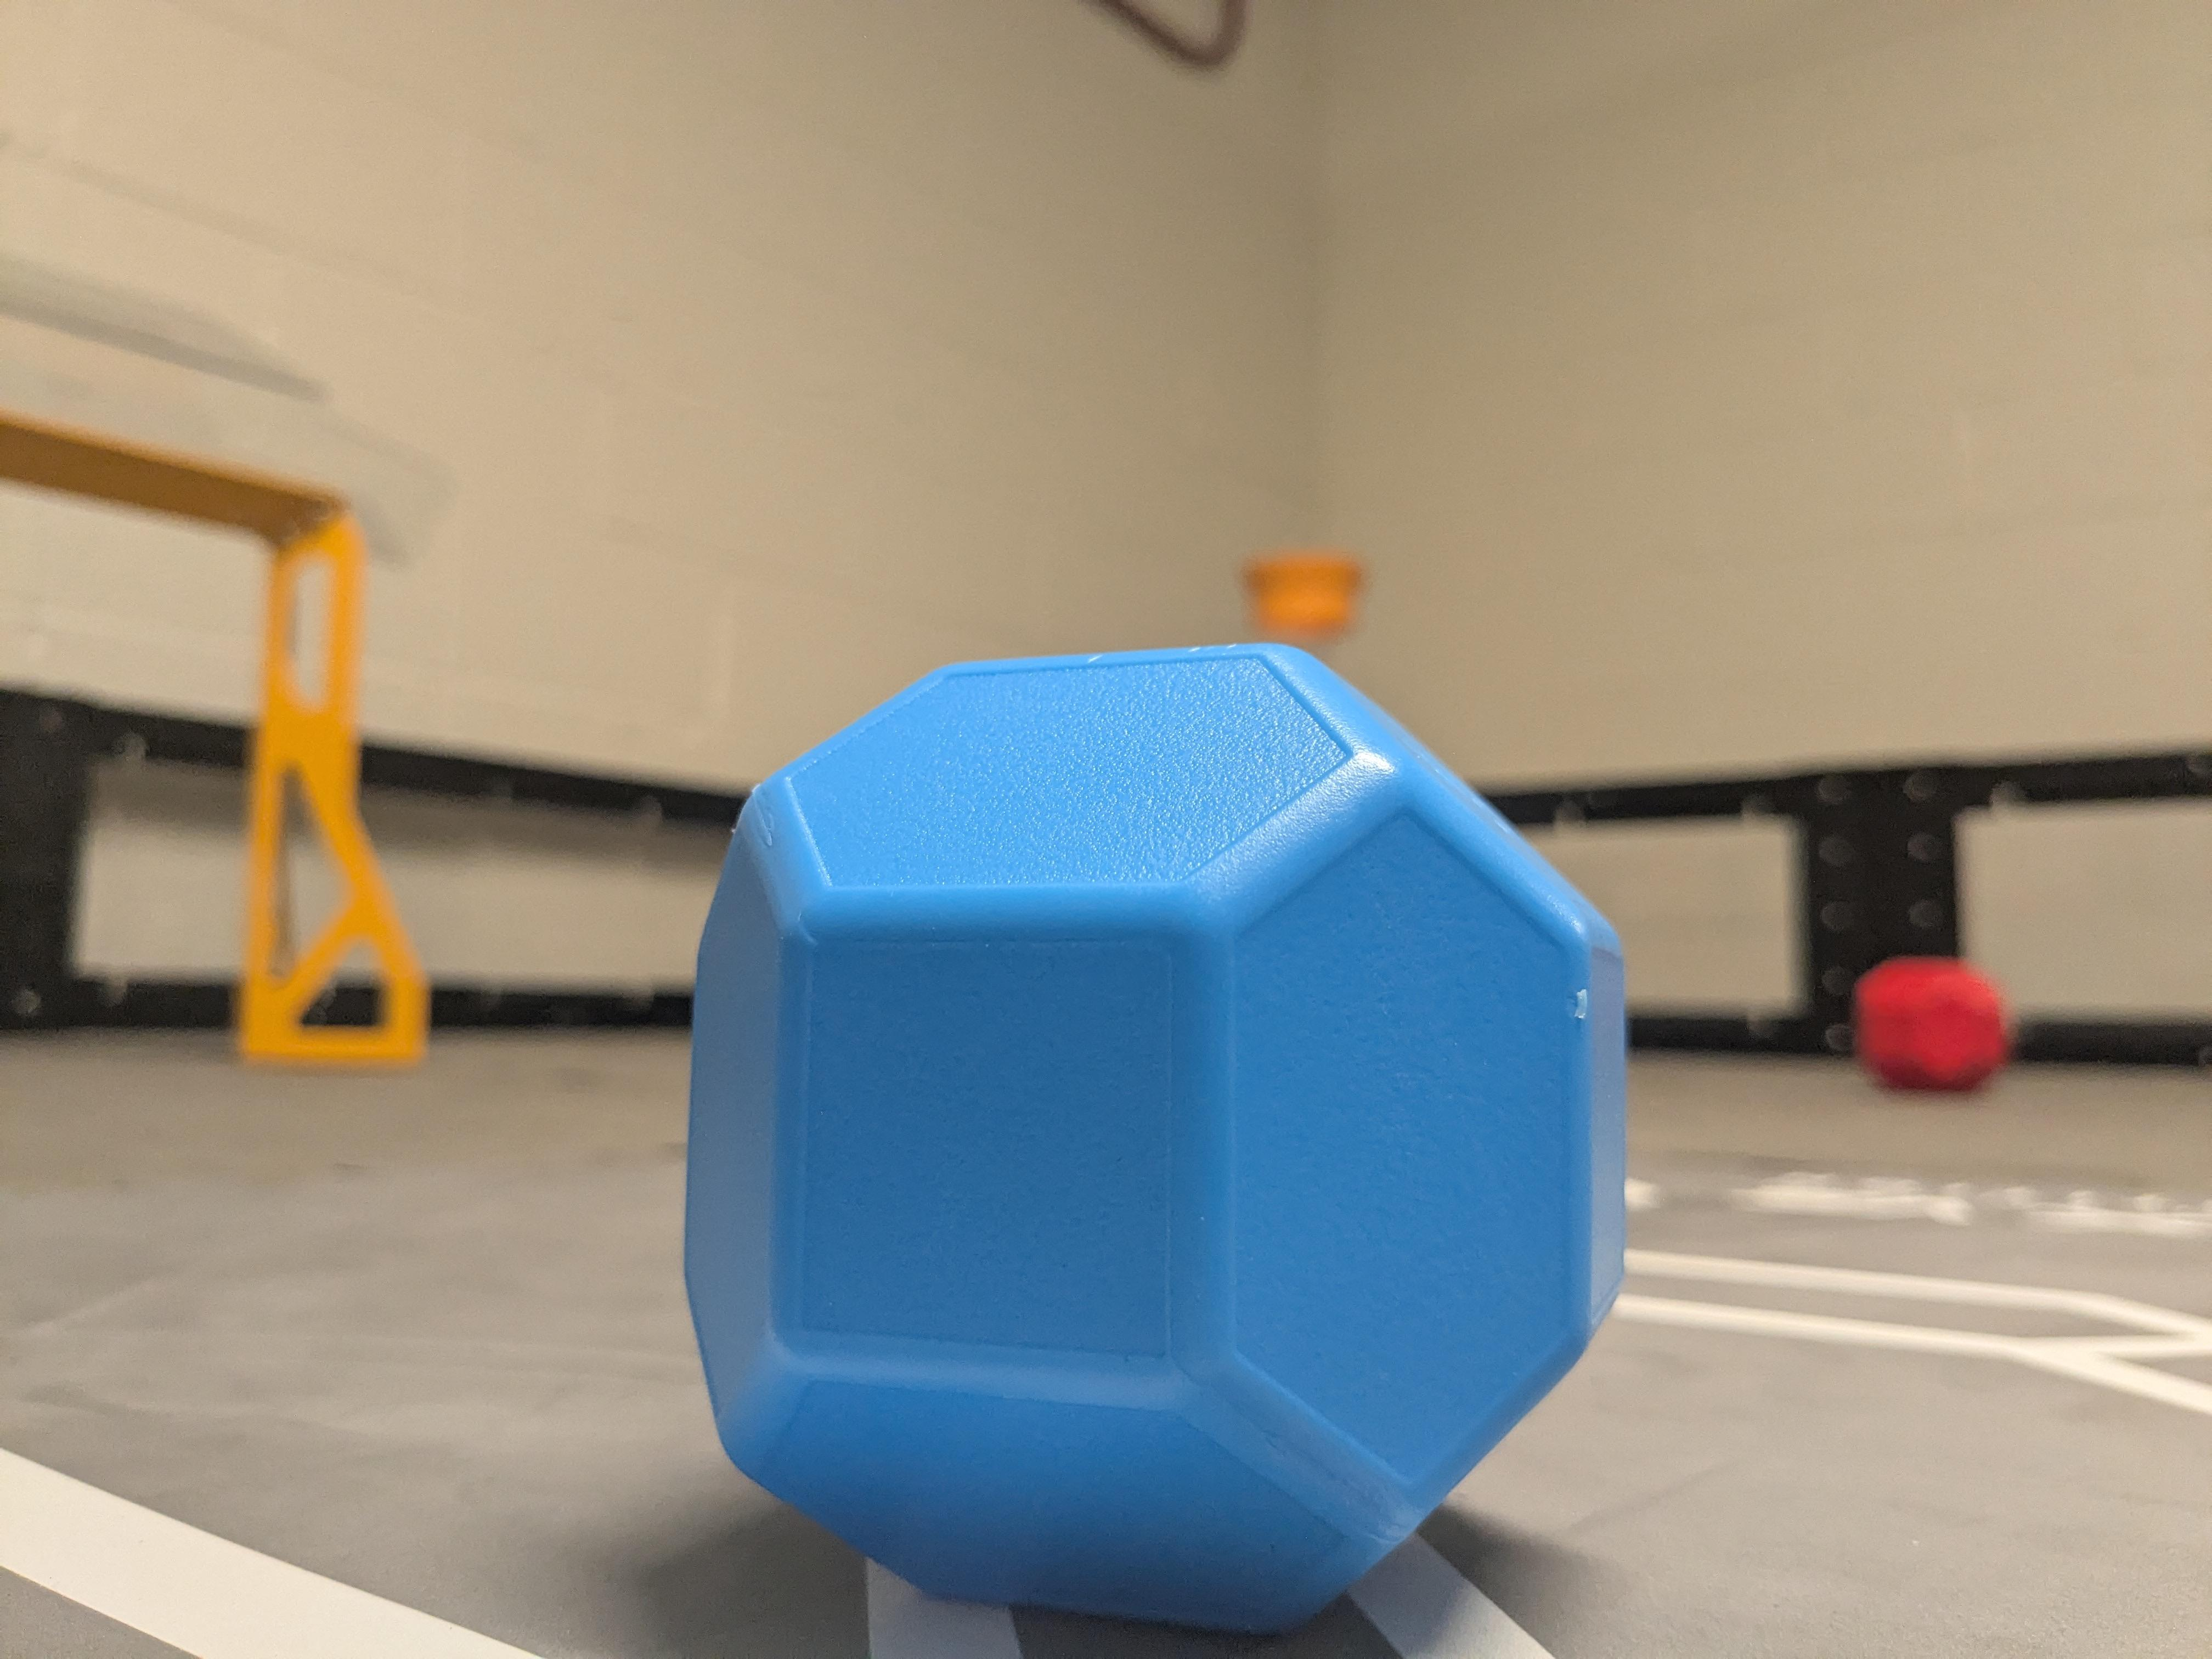Vex-Pieces-BLUE: (686, 643, 1625, 1629)
